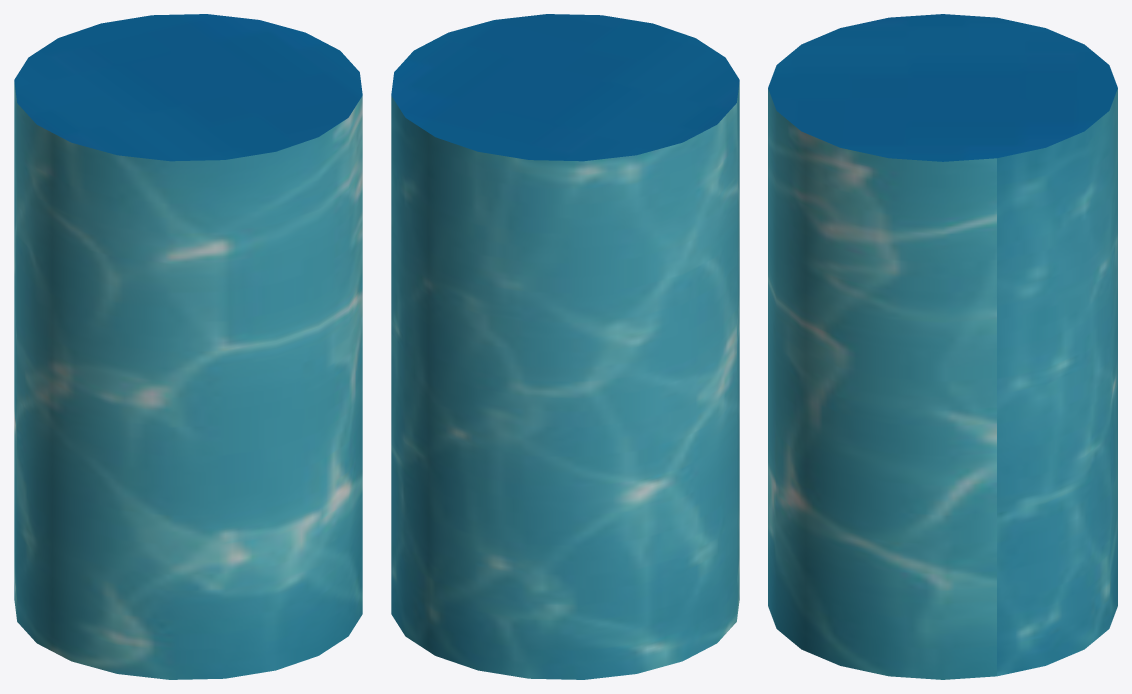
File: PeceraCristal.obj
3 views of the same model, side by side, from view 1: azimuth 30°, elevation 25°; view 2: azimuth 150°, elevation 25°; view 3: azimuth 270°, elevation 25° (orthographic).
Parts seen in each view (by area): view 1: PeceraCristal:polySurface1pCylinder3; view 2: PeceraCristal:polySurface1pCylinder3; view 3: PeceraCristal:polySurface1pCylinder3.
Boxes of the visible parts, x1=… form: PeceraCristal:polySurface1pCylinder3: x1=14, y1=14, x2=362, y2=679; PeceraCristal:polySurface1pCylinder3: x1=391, y1=14, x2=739, y2=679; PeceraCristal:polySurface1pCylinder3: x1=768, y1=14, x2=1117, y2=679.
Bounding box in the file's own units: 4.11 × 6.72 × 4.11.
Materials: 1 (1 with a texture image).
